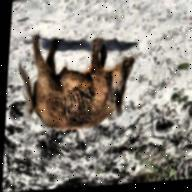boar: (11, 28, 152, 138)
